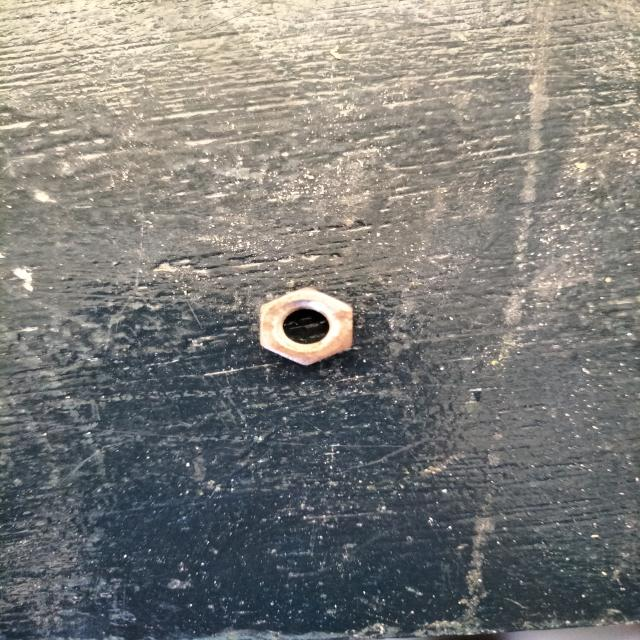nuts: (258, 286, 353, 364)
